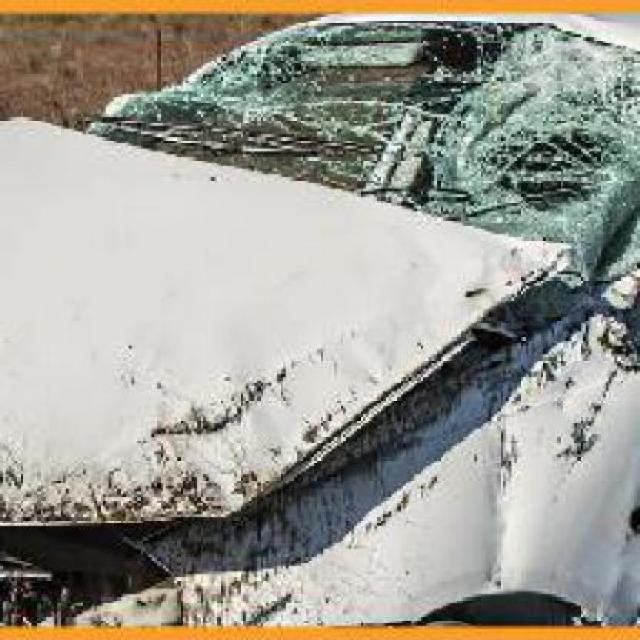damaged-windscreen: (104, 9, 638, 262)
